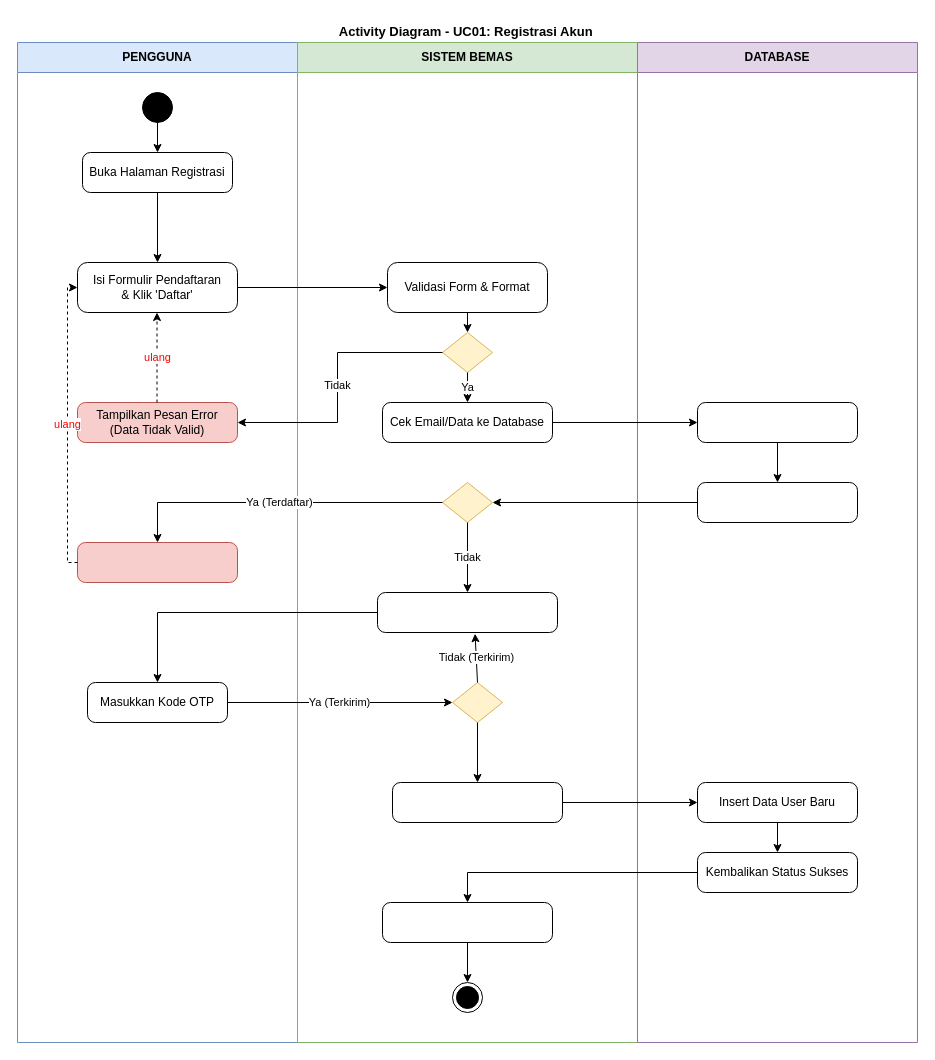
The diagram is 935 pixels wide and 1060 high, and some of its shapes have lost their labels. The shapes that lost their labels are listed below. From the top down, each one's centre as x and y in pixels, then its label:
point (777, 422): Query Cek User / Email
point (777, 502): Kembalikan Hasil Cek
point (157, 562): Tampilkan 'Email/Data Sudah Terdaftar'
point (467, 612): Generasi & Kirim OTP ke Email
point (477, 802): Kirim Perintah Simpan Data
point (467, 922): Tampilkan 'Registrasi Berhasil'
